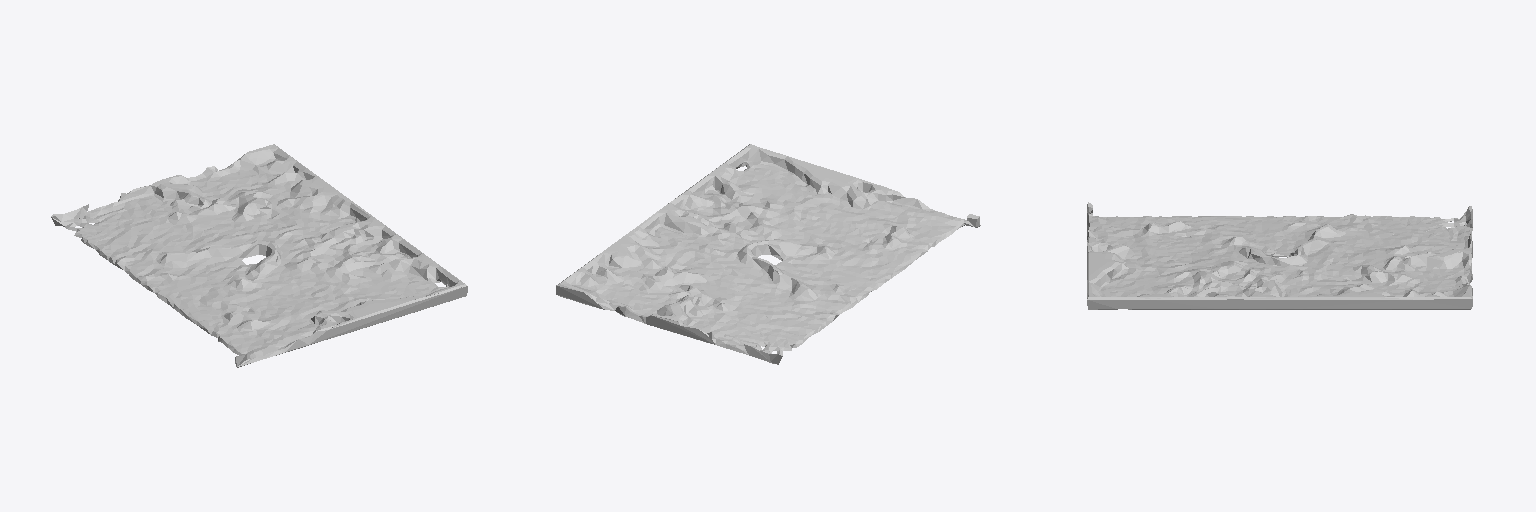
The picture shows the model from 3 angles: view 1: azimuth 30°, elevation 25°; view 2: azimuth 150°, elevation 25°; view 3: azimuth 270°, elevation 25°; orthographic projection.
Visible parts, largest first — view 1: Liquid_Domain; view 2: Liquid_Domain; view 3: Liquid_Domain.
Boxes of the visible parts, box(x1,y1,x2,y2) form: Liquid_Domain: box(51, 144, 467, 367); Liquid_Domain: box(556, 144, 980, 364); Liquid_Domain: box(1087, 202, 1472, 309).
Size of the model in its own units: 116 by 13.76 by 168.